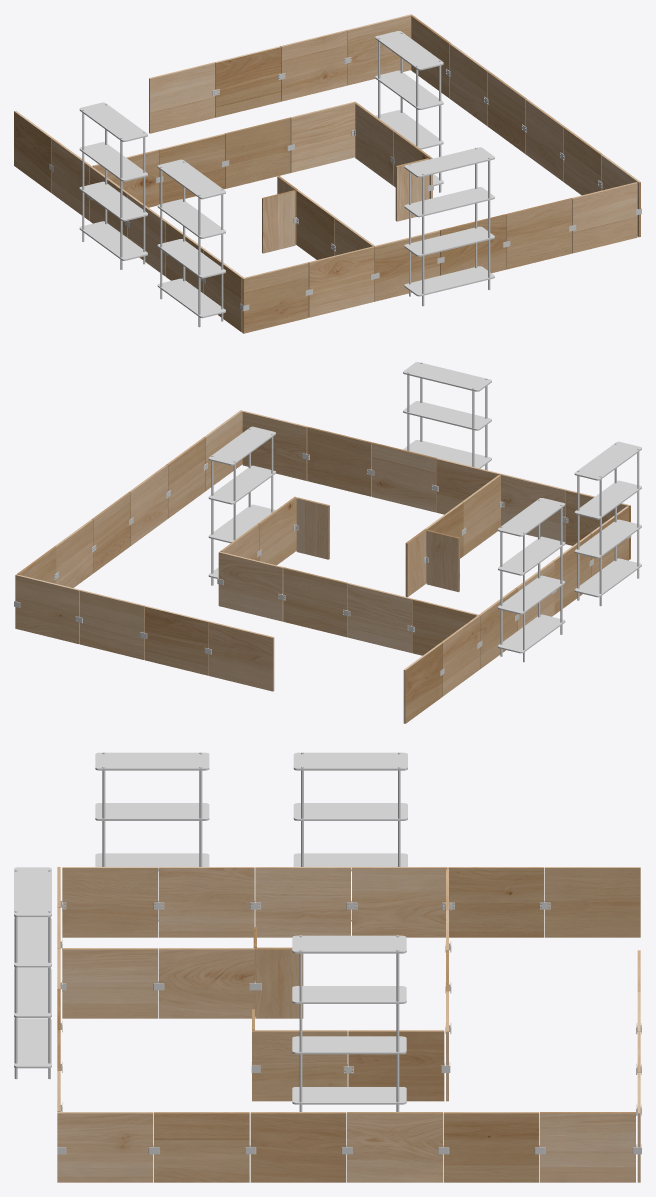
The model's file is service_group_map.dae.
3 renders of one model, top to bottom at view 1: azimuth 30°, elevation 25°; view 2: azimuth 150°, elevation 25°; view 3: azimuth 270°, elevation 25°, orthographic. The views are drawn at different scales.
Visible parts, largest first — view 1: 服务组场地无卡扣, 服务组架子.003, 服务组架子.002, 服务组架子.001, 服务组架子, 服务组场地无木板; view 2: 服务组场地无卡扣, 服务组架子.001, 服务组架子.002, 服务组架子, 服务组架子.003, 服务组场地无木板; view 3: 服务组场地无卡扣, 服务组架子, 服务组架子.003, 服务组架子.001, 服务组架子.002, 服务组场地无木板.
Part boxes in pixels (box(x1,y1,x2,y2)): 服务组场地无卡扣: box(14, 14, 640, 333); 服务组架子.003: box(404, 147, 494, 306); 服务组架子.002: box(79, 102, 147, 269); 服务组架子.001: box(157, 159, 225, 327); 服务组架子: box(375, 31, 443, 192); 服务组场地无木板: box(49, 57, 641, 311); 服务组场地无卡扣: box(15, 410, 630, 723); 服务组架子.001: box(574, 441, 641, 606); 服务组架子.002: box(498, 498, 565, 662); 服务组架子: box(208, 426, 275, 585); 服务组架子.003: box(403, 362, 491, 470); 服务组场地无木板: box(14, 453, 631, 675); 服务组场地无卡扣: box(57, 867, 640, 1182); 服务组架子: box(292, 935, 406, 1111); 服务组架子.003: box(14, 867, 51, 1079); 服务组架子.001: box(95, 752, 209, 921); 服务组架子.002: box(293, 752, 407, 921); 服务组场地无木板: box(57, 900, 641, 1154).
Bounding box in the file's own units: 3.26 × 3.28 × 0.965.
Materials: 5 (1 with a texture image).
